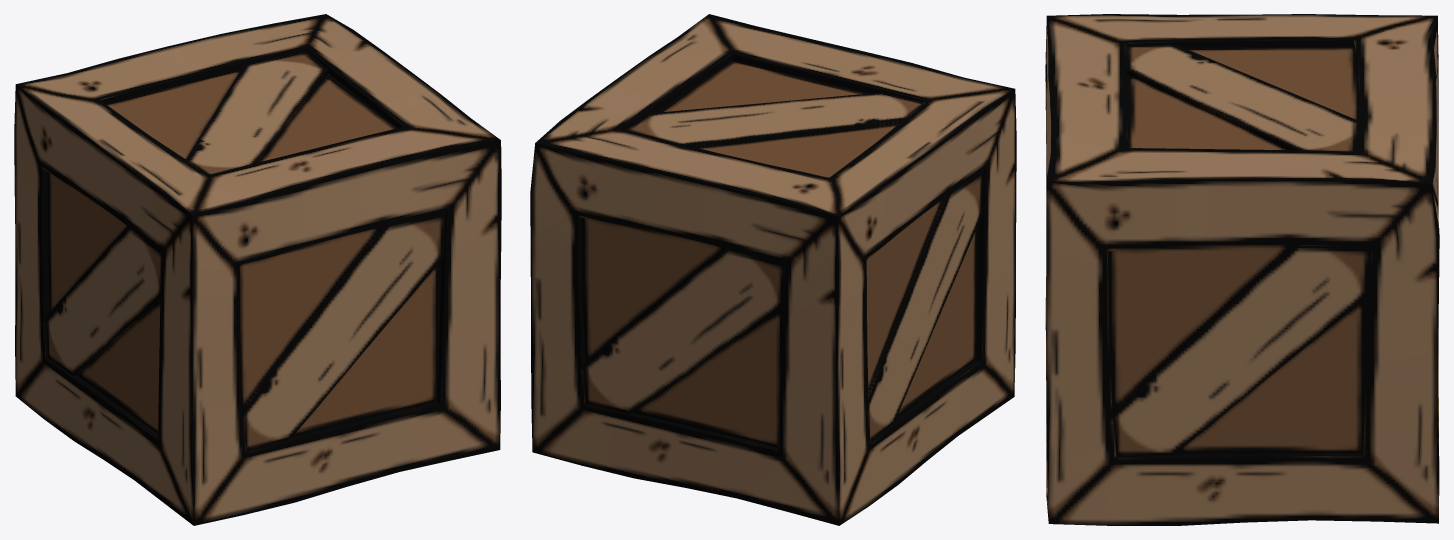
The model's file is mniejszy_box.fbx.
3 views of the same model, side by side, from view 1: azimuth 30°, elevation 25°; view 2: azimuth 150°, elevation 25°; view 3: azimuth 270°, elevation 25° (orthographic). The views are drawn at different scales.
Visible parts, largest first — view 1: mniejszy box; view 2: mniejszy box; view 3: mniejszy box.
Part boxes in pixels (box(x1,y1,x2,y2)): mniejszy box: box(14, 14, 501, 525); mniejszy box: box(530, 14, 1016, 525); mniejszy box: box(1045, 14, 1439, 525).
Size of the model in its own units: 66.57 by 64.35 by 66.44.
Materials: 1 (1 with a texture image).
